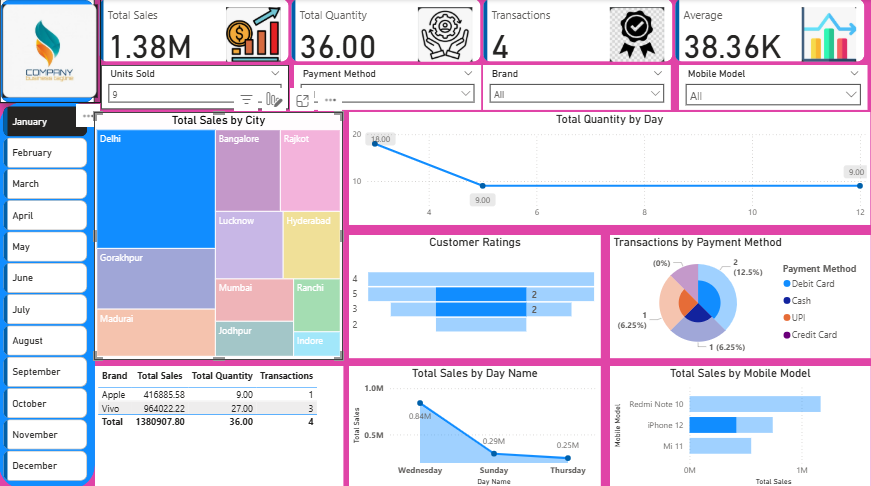

The dashboard page shown, as its layout file describes it:
{"tool":"powerbi","page":{"name":"Page 1","canvas":[1280,720],"ordinal":0},"visuals":[{"type":"shape","box":[1.8,0,138.6,153.2],"z":0},{"type":"shape","box":[0,130.9,141.2,590],"z":1000},{"type":"advancedSlicerVisual","fields":{"Values":["Sales_Data.Date.Variation.Date Hierarchy.Month"]},"box":[7.3,153.2,133.1,567.1],"z":2000},{"type":"cardVisual","fields":{"Data":["Sales_Data.Total Sales","Sales_Data.Total Quantity","Sales_Data.Transactions","Sales_Data.Average"]},"box":[142.8,0,1137.2,97.4],"z":3000},{"type":"lineChart","fields":{"Y":["Sales_Data.Total Quantity"],"Category":["Sales_Data.Date.Variation.Date Hierarchy.Quarter","Sales_Data.Date.Variation.Date Hierarchy.Month","Sales_Data.Date.Variation.Date Hierarchy.Day"]},"box":[514.2,165.9,765.8,165.9],"z":4000},{"type":"clusteredBarChart","fields":{"Category":["Sales_Data.Mobile Model"],"Y":["Sales_Data.Total Sales"]},"box":[897.1,539.7,382.9,180.5],"z":5000},{"type":"pieChart","fields":{"Category":["Sales_Data.Payment Method"],"Y":["Sales_Data.Transactions"]},"box":[897.1,346.4,382.9,180.5],"z":6000},{"type":"funnel","title":"Customer Ratings","fields":{"Category":["Sales_Data.Customer Ratings"],"Y":["CountNonNull(Sales_Data.Customer Ratings)"]},"box":[514.2,346.4,370.1,180.5],"z":7000},{"type":"areaChart","fields":{"Category":["Sales_Data.Day Name"],"Y":["Sales_Data.Total Sales"]},"box":[514.2,539.7,370.1,180.5],"z":8000},{"type":"tableEx","fields":{"Values":["Sales_Data.Brand","Sales_Data.Total Sales","Sales_Data.Total Quantity","Sales_Data.Transactions"]},"box":[140.4,539.7,364.7,180.5],"z":9000},{"type":"slicer","fields":{"Values":["Sales_Data.Units Sold"]},"box":[149.5,96.6,271.7,63.8],"z":10000},{"type":"slicer","fields":{"Values":["Sales_Data.Payment Method"]},"box":[433.4,97.4,265.4,65.5],"z":11000},{"type":"slicer","fields":{"Values":["Sales_Data.Brand"]},"box":[710.6,97.4,277.2,65.5],"z":12000},{"type":"slicer","fields":{"Values":["Sales_Data.Mobile Model"]},"box":[999.5,97.4,280.5,65.5],"z":13000},{"type":"image","box":[0,0,149.9,152.8],"z":15000},{"type":"treemap","fields":{"Group":["Sales_Data.City"],"Values":["Sales_Data.Total Sales"]},"box":[139.6,166,365.9,364],"z":15001}]}

Visuals, with their boxes in screenshot pixels (x1, y1, x2, y2), scaled from the page's 1280x720 canvas onto the 871x486 screenshot:
shape: 1:0:96:103
shape: 0:88:96:485
advancedSlicerVisual - Sales_Data.Date.Variation.Date Hierarchy.Month: 5:103:96:485
cardVisual - Sales_Data.Total Sales x Sales_Data.Total Quantity: 97:0:870:66
lineChart - Sales_Data.Total Quantity x Sales_Data.Date.Variation.Date Hierarchy.Quarter: 350:112:870:224
clusteredBarChart - Sales_Data.Mobile Model x Sales_Data.Total Sales: 610:364:870:485
pieChart - Sales_Data.Payment Method x Sales_Data.Transactions: 610:234:870:356
"Customer Ratings" funnel: 350:234:602:356
areaChart - Sales_Data.Day Name x Sales_Data.Total Sales: 350:364:602:485
tableEx - Sales_Data.Brand x Sales_Data.Total Sales: 96:364:344:485
slicer - Sales_Data.Units Sold: 102:65:287:108
slicer - Sales_Data.Payment Method: 295:66:476:110
slicer - Sales_Data.Brand: 484:66:672:110
slicer - Sales_Data.Mobile Model: 680:66:870:110
image: 0:0:102:103
treemap - Sales_Data.City x Sales_Data.Total Sales: 95:112:344:358
